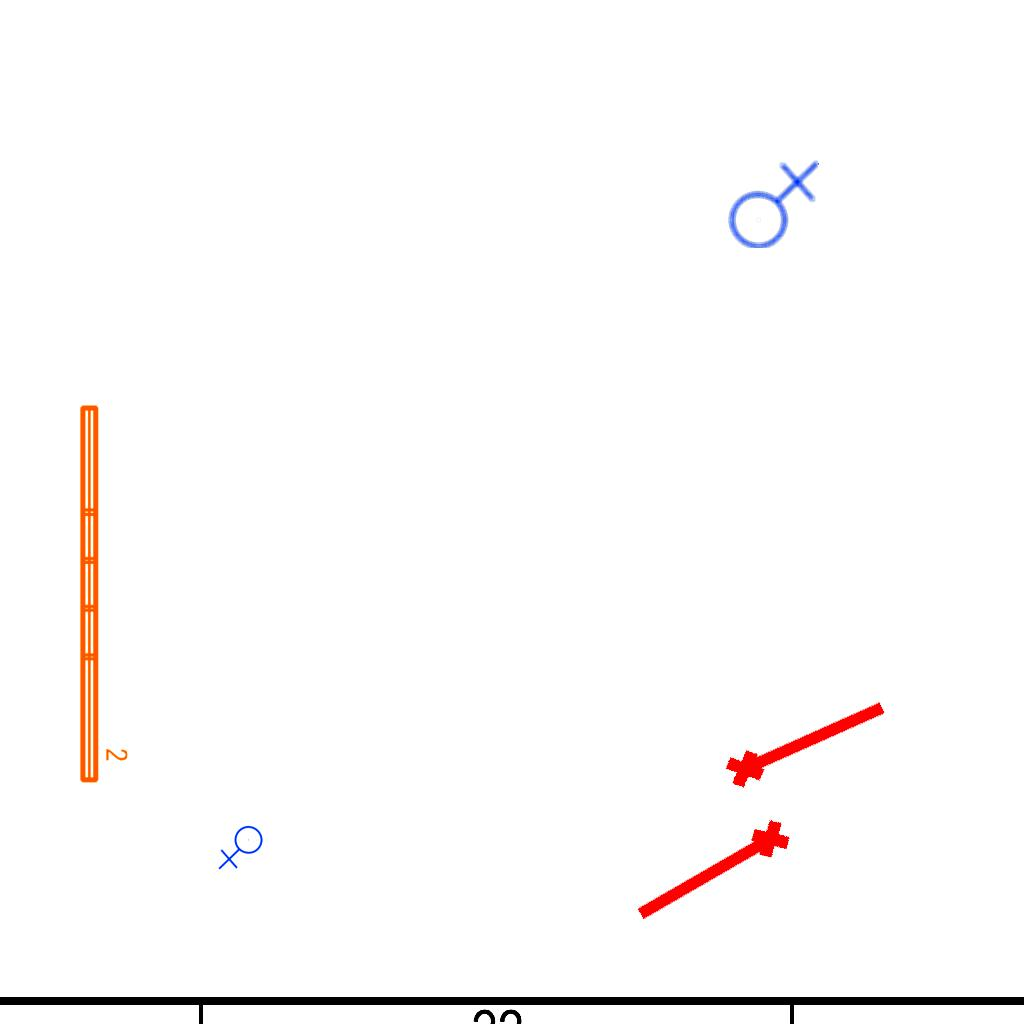ASR_Ansaugoeffnung: (625, 811, 801, 939), (716, 682, 896, 796)
Ambulanz_Pendelleuchte_LED: (74, 400, 130, 787)
Elektroanschluss_allgemein_230V_Geraeteanschlussdose_230V: (721, 156, 820, 250), (218, 825, 267, 872)
